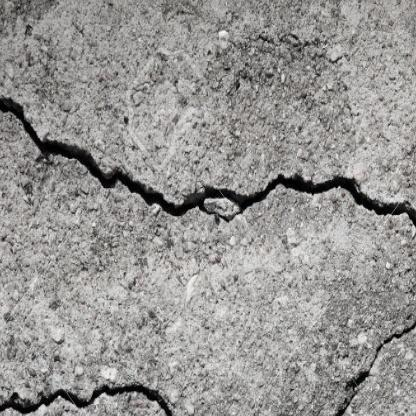Cracks: (0, 85, 416, 235), (266, 306, 416, 416), (0, 381, 207, 416)
